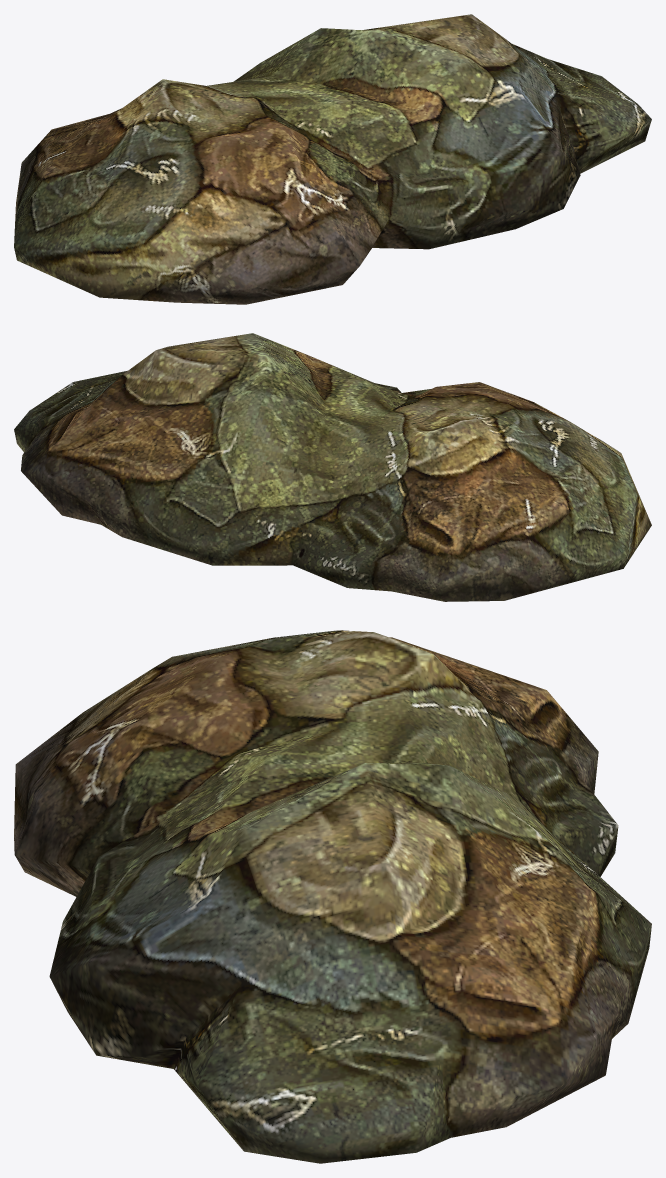
The model's file is pile_of_survivor_clothes_03.dae.
The picture shows the model from 3 angles, top to bottom: view 1: azimuth 30°, elevation 25°; view 2: azimuth 150°, elevation 25°; view 3: azimuth 270°, elevation 25°; orthographic projection. The views are drawn at different scales.
Visible parts, largest first — view 1: pile_of_survivor_clothes_03; view 2: pile_of_survivor_clothes_03; view 3: pile_of_survivor_clothes_03.
Part boxes in pixels (<box>): pile_of_survivor_clothes_03: <box>14,14,651,304</box>; pile_of_survivor_clothes_03: <box>14,333,651,601</box>; pile_of_survivor_clothes_03: <box>14,630,651,1163</box>.
Bounding box in the file's own units: 1.42 × 0.3056 × 0.8263.
